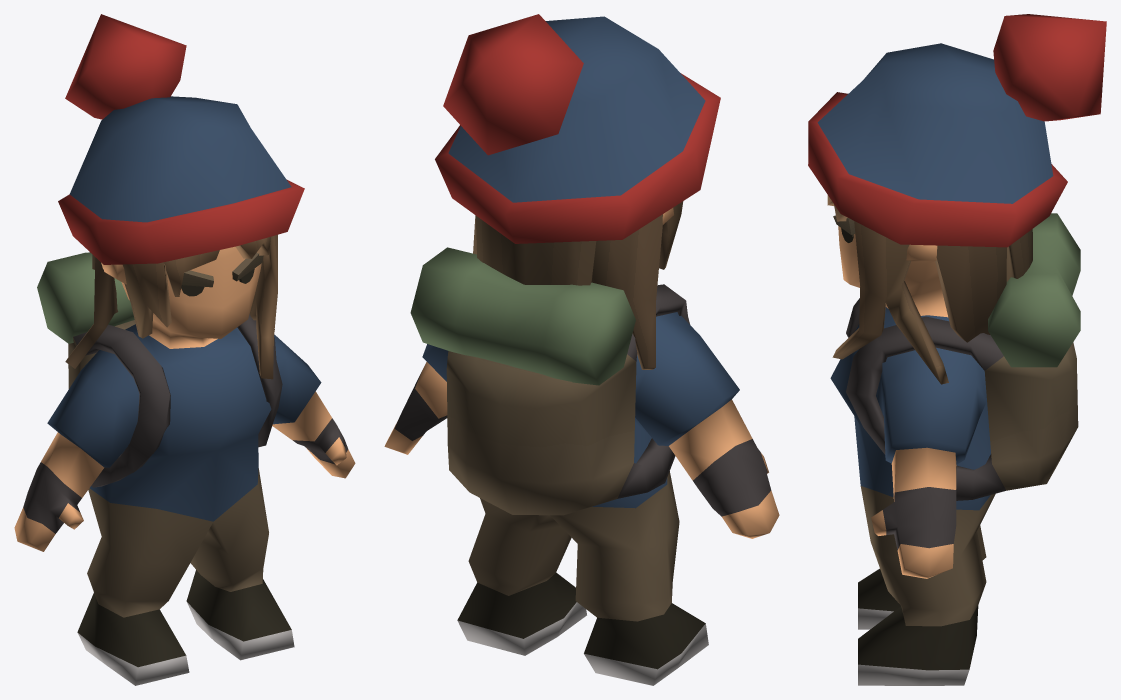
File: Human.fbx
3 renders of one model, left to right at view 1: azimuth 30°, elevation 25°; view 2: azimuth 150°, elevation 25°; view 3: azimuth 270°, elevation 25°, orthographic. The views are drawn at different scales.
Parts seen in each view (by area): view 1: Bag; view 2: Bag; view 3: Bag.
Part boxes in pixels (bbox=[...]): Bag: bbox=[14, 14, 355, 685]; Bag: bbox=[384, 14, 779, 685]; Bag: bbox=[808, 14, 1106, 685].
Size of the model in its own units: 309 by 515 by 222.
